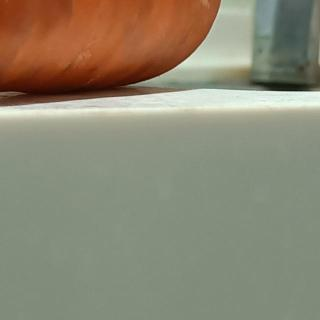carrot: (0, 0, 230, 95)
